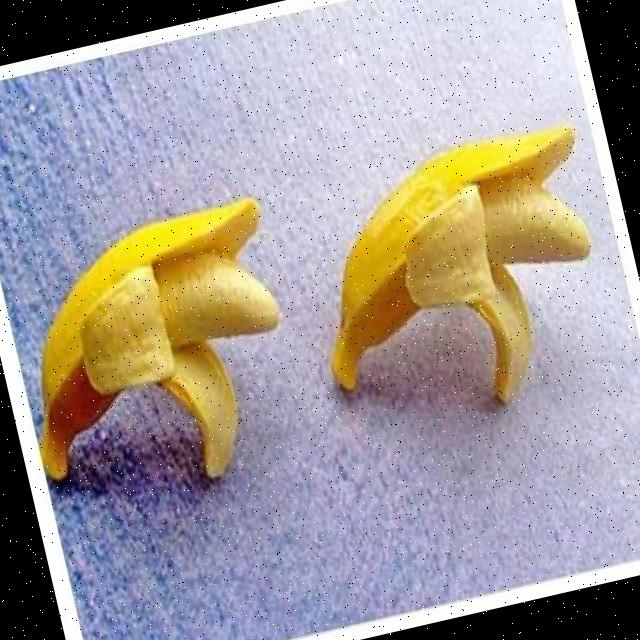banana-peel: (286, 116, 630, 442), (0, 192, 317, 517)
